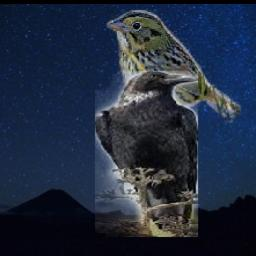Crow: (96, 72, 199, 238)
Sparrow: (107, 10, 241, 127)
